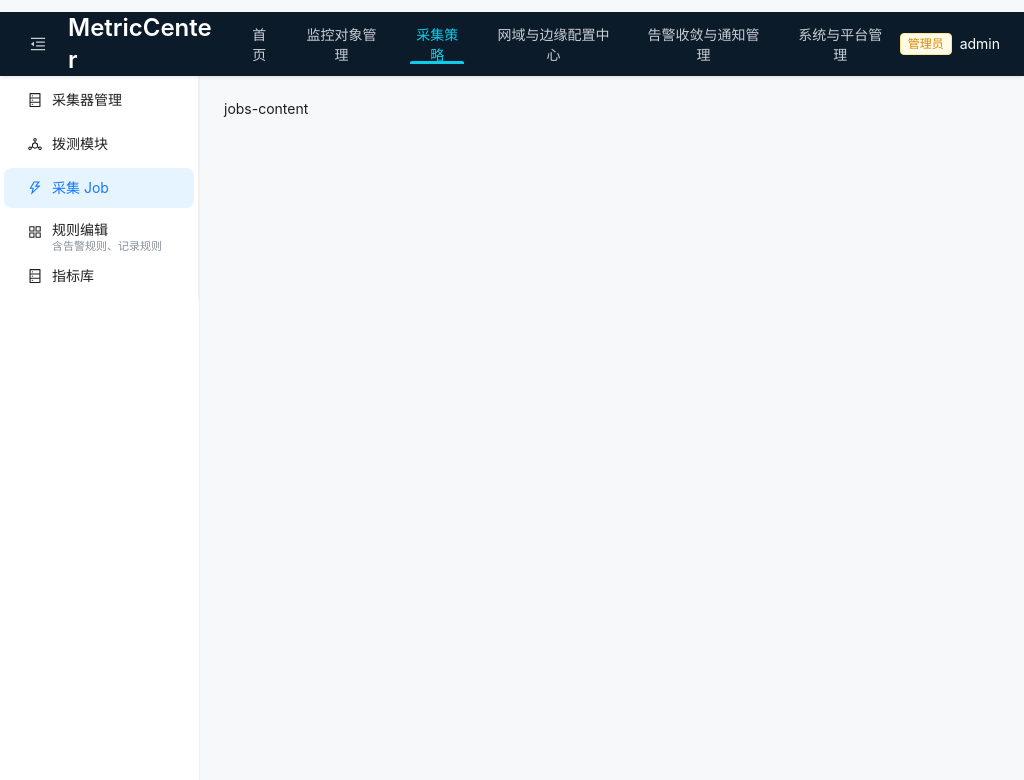
Test: MainLayout › navigates to /collectors when 采集器管理 sub-item clicked
Click the menu item "采集器管理". click: (75, 100)
box: 28,91 -> 122,108
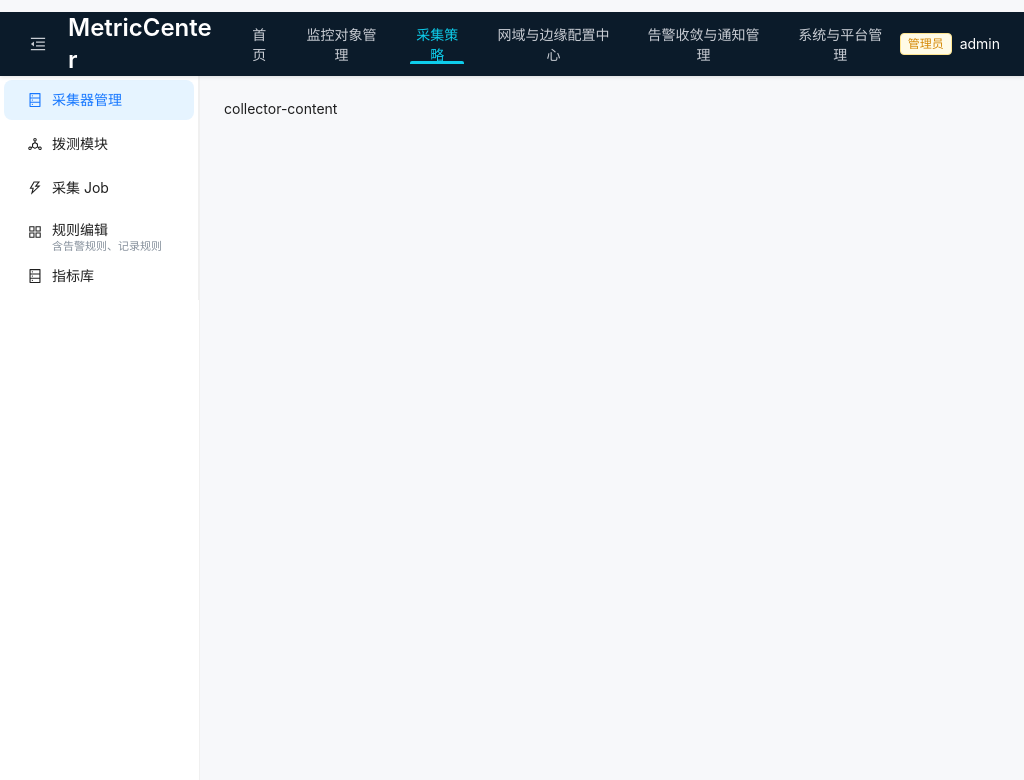
Check: the text "collector-content" is shown
Check: the text "jobs-content" is gone
